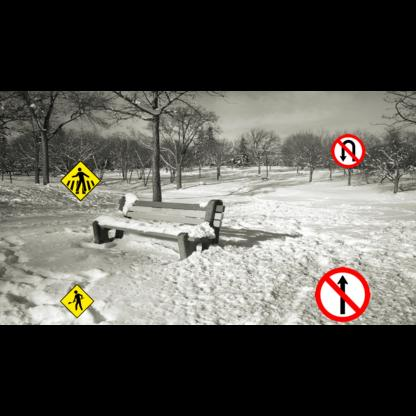A-24: (60, 284, 94, 318)
A-32b: (60, 160, 101, 202)
R-3: (315, 267, 370, 322)
R-5a: (331, 134, 365, 168)
